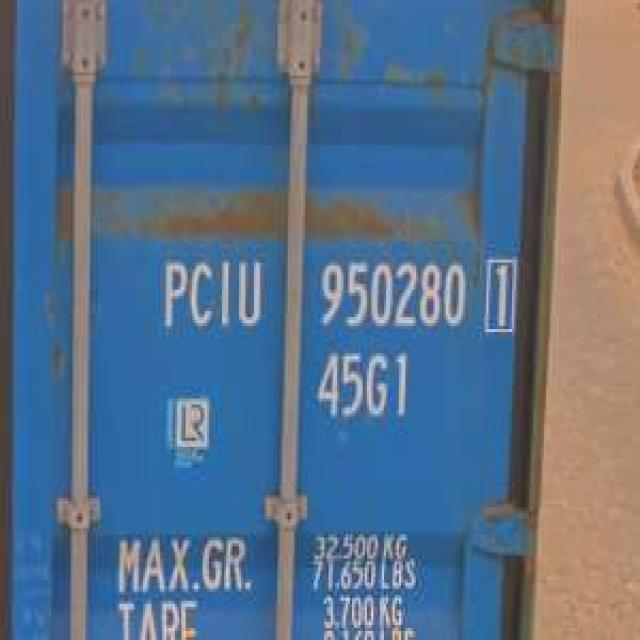dv: (478, 251, 516, 338)
owner: (156, 251, 266, 335)
serial: (314, 251, 469, 332)
size: (311, 344, 414, 426)
